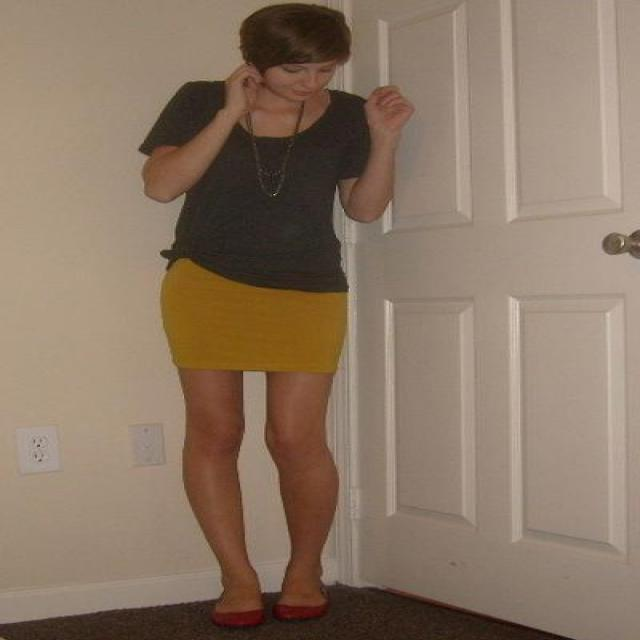shirt: (139, 81, 371, 292)
skirt: (160, 259, 346, 382)
